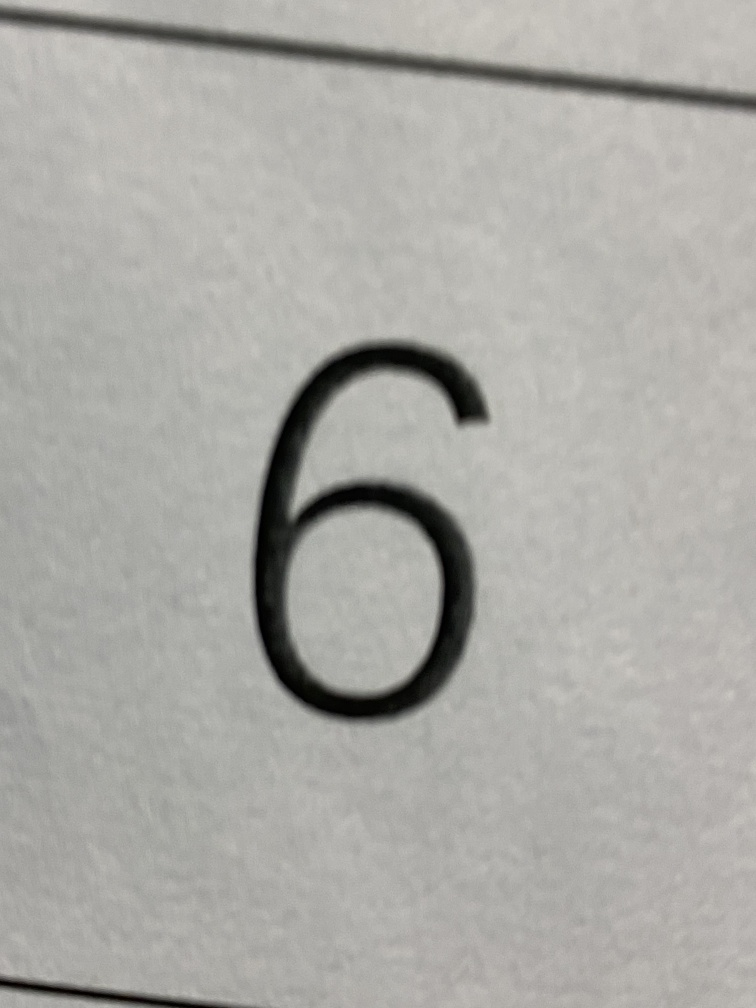six: (185, 250, 559, 818)
